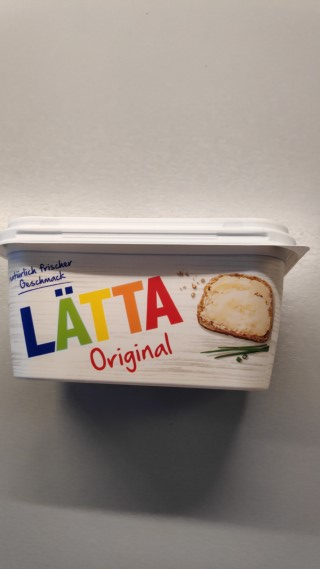laetta: (1, 213, 311, 392)
